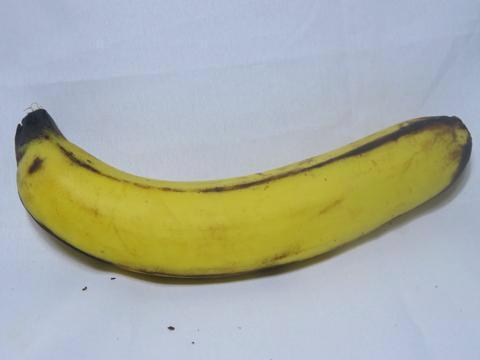ripe: (9, 93, 479, 280)
